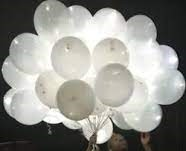Balloon: (9, 32, 50, 74), (52, 36, 91, 78), (96, 63, 134, 106), (57, 80, 97, 119), (12, 89, 48, 125), (150, 69, 186, 105)
